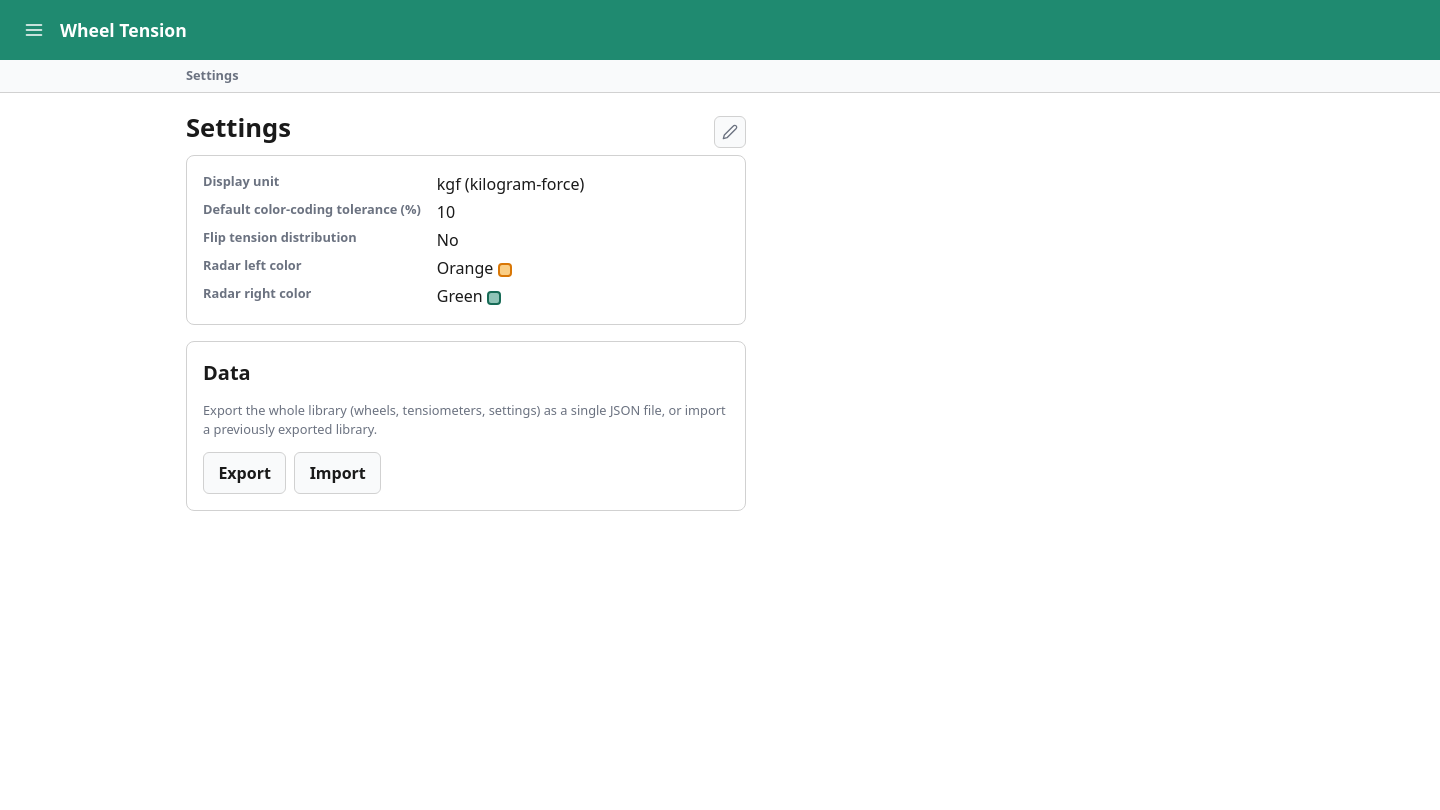
it: Settings › toggles and saves the flip setting
Step 1. Click the button named "Edit settings" → (730, 132), box [714,116,746,148]
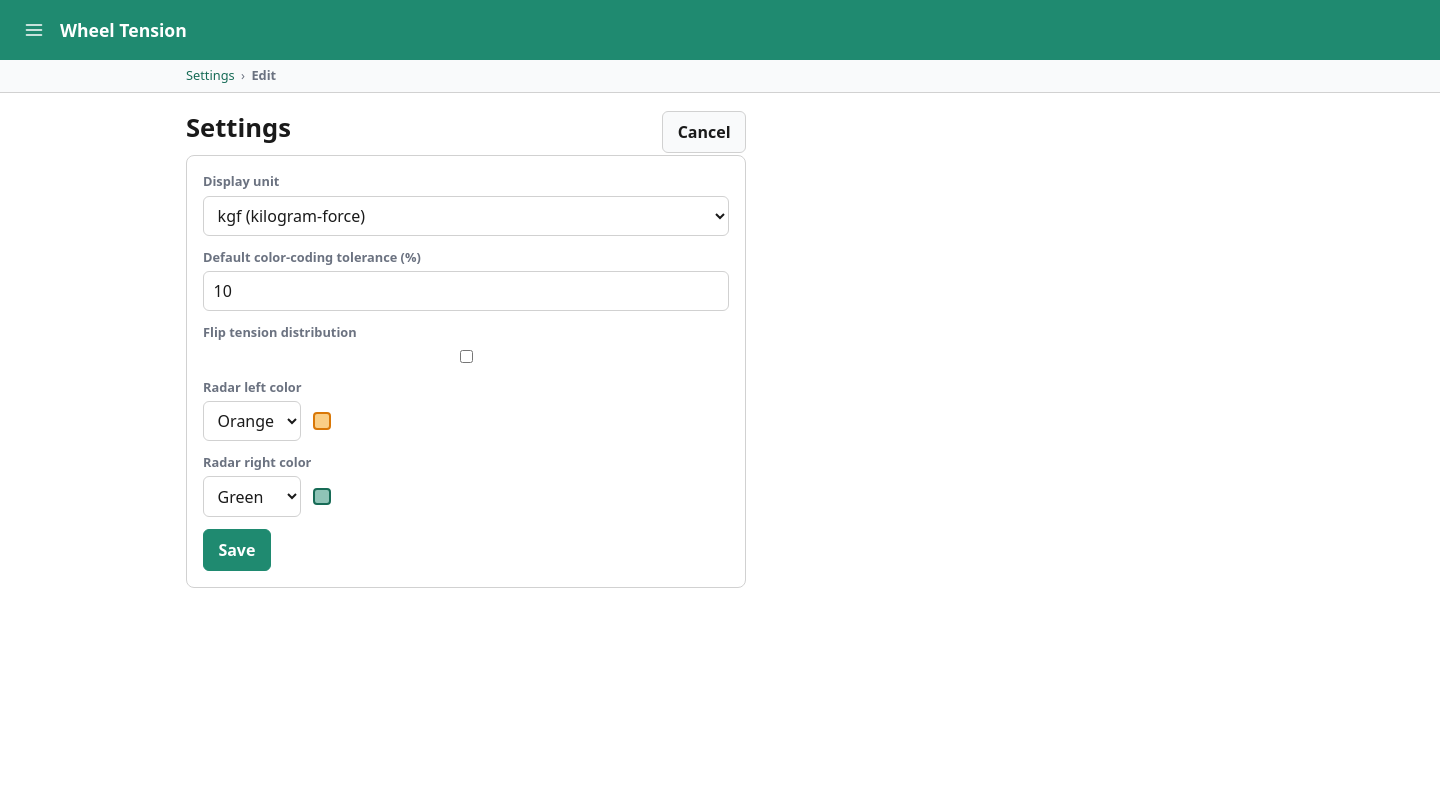
Step 2. Click the checkbox labelled "Flip tension distribution" → (466, 356), box [207,350,726,363]
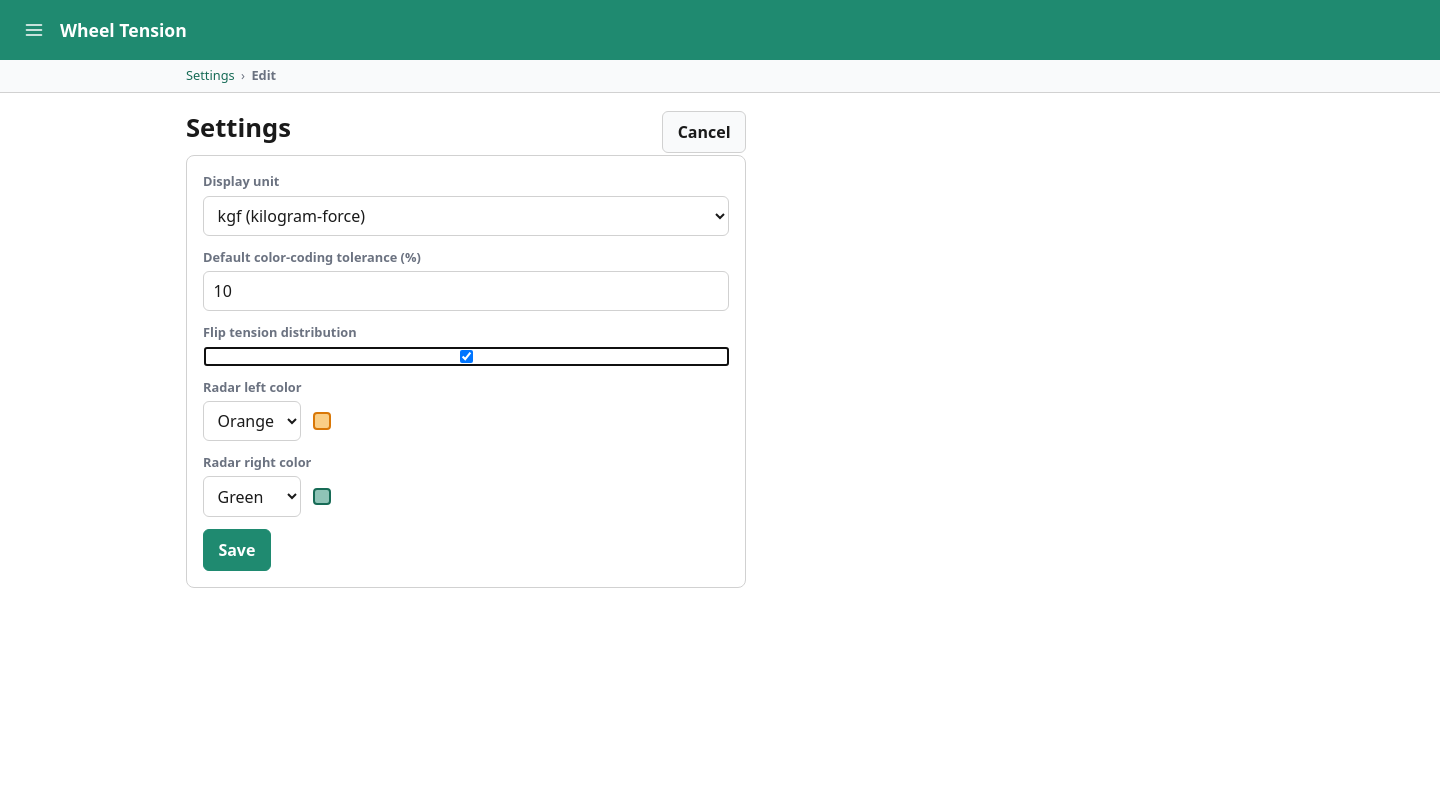
Step 3. Click the button "Save" → (237, 550), box [203,529,271,571]
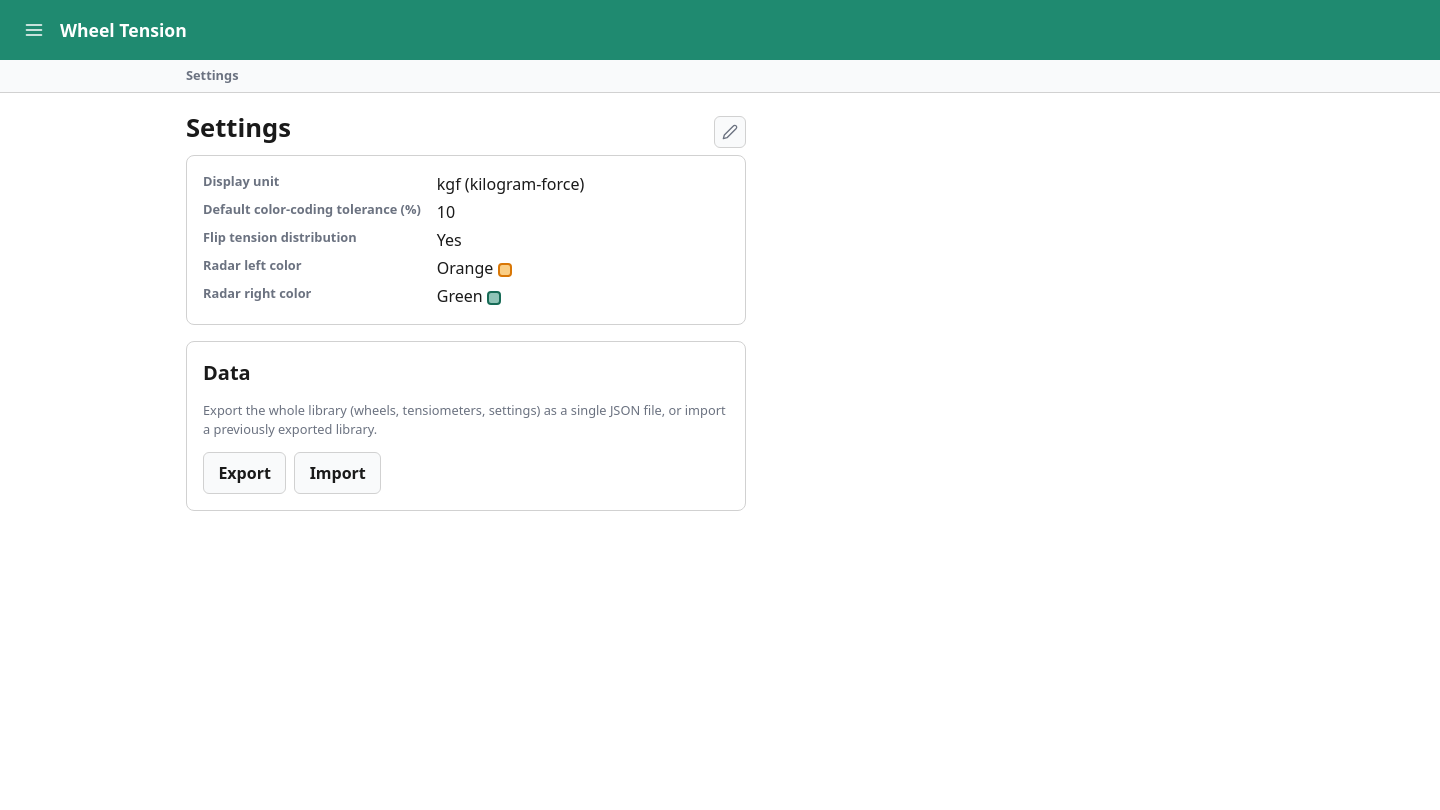
Expected: the text "Yes" is shown, [437,229,462,251]
